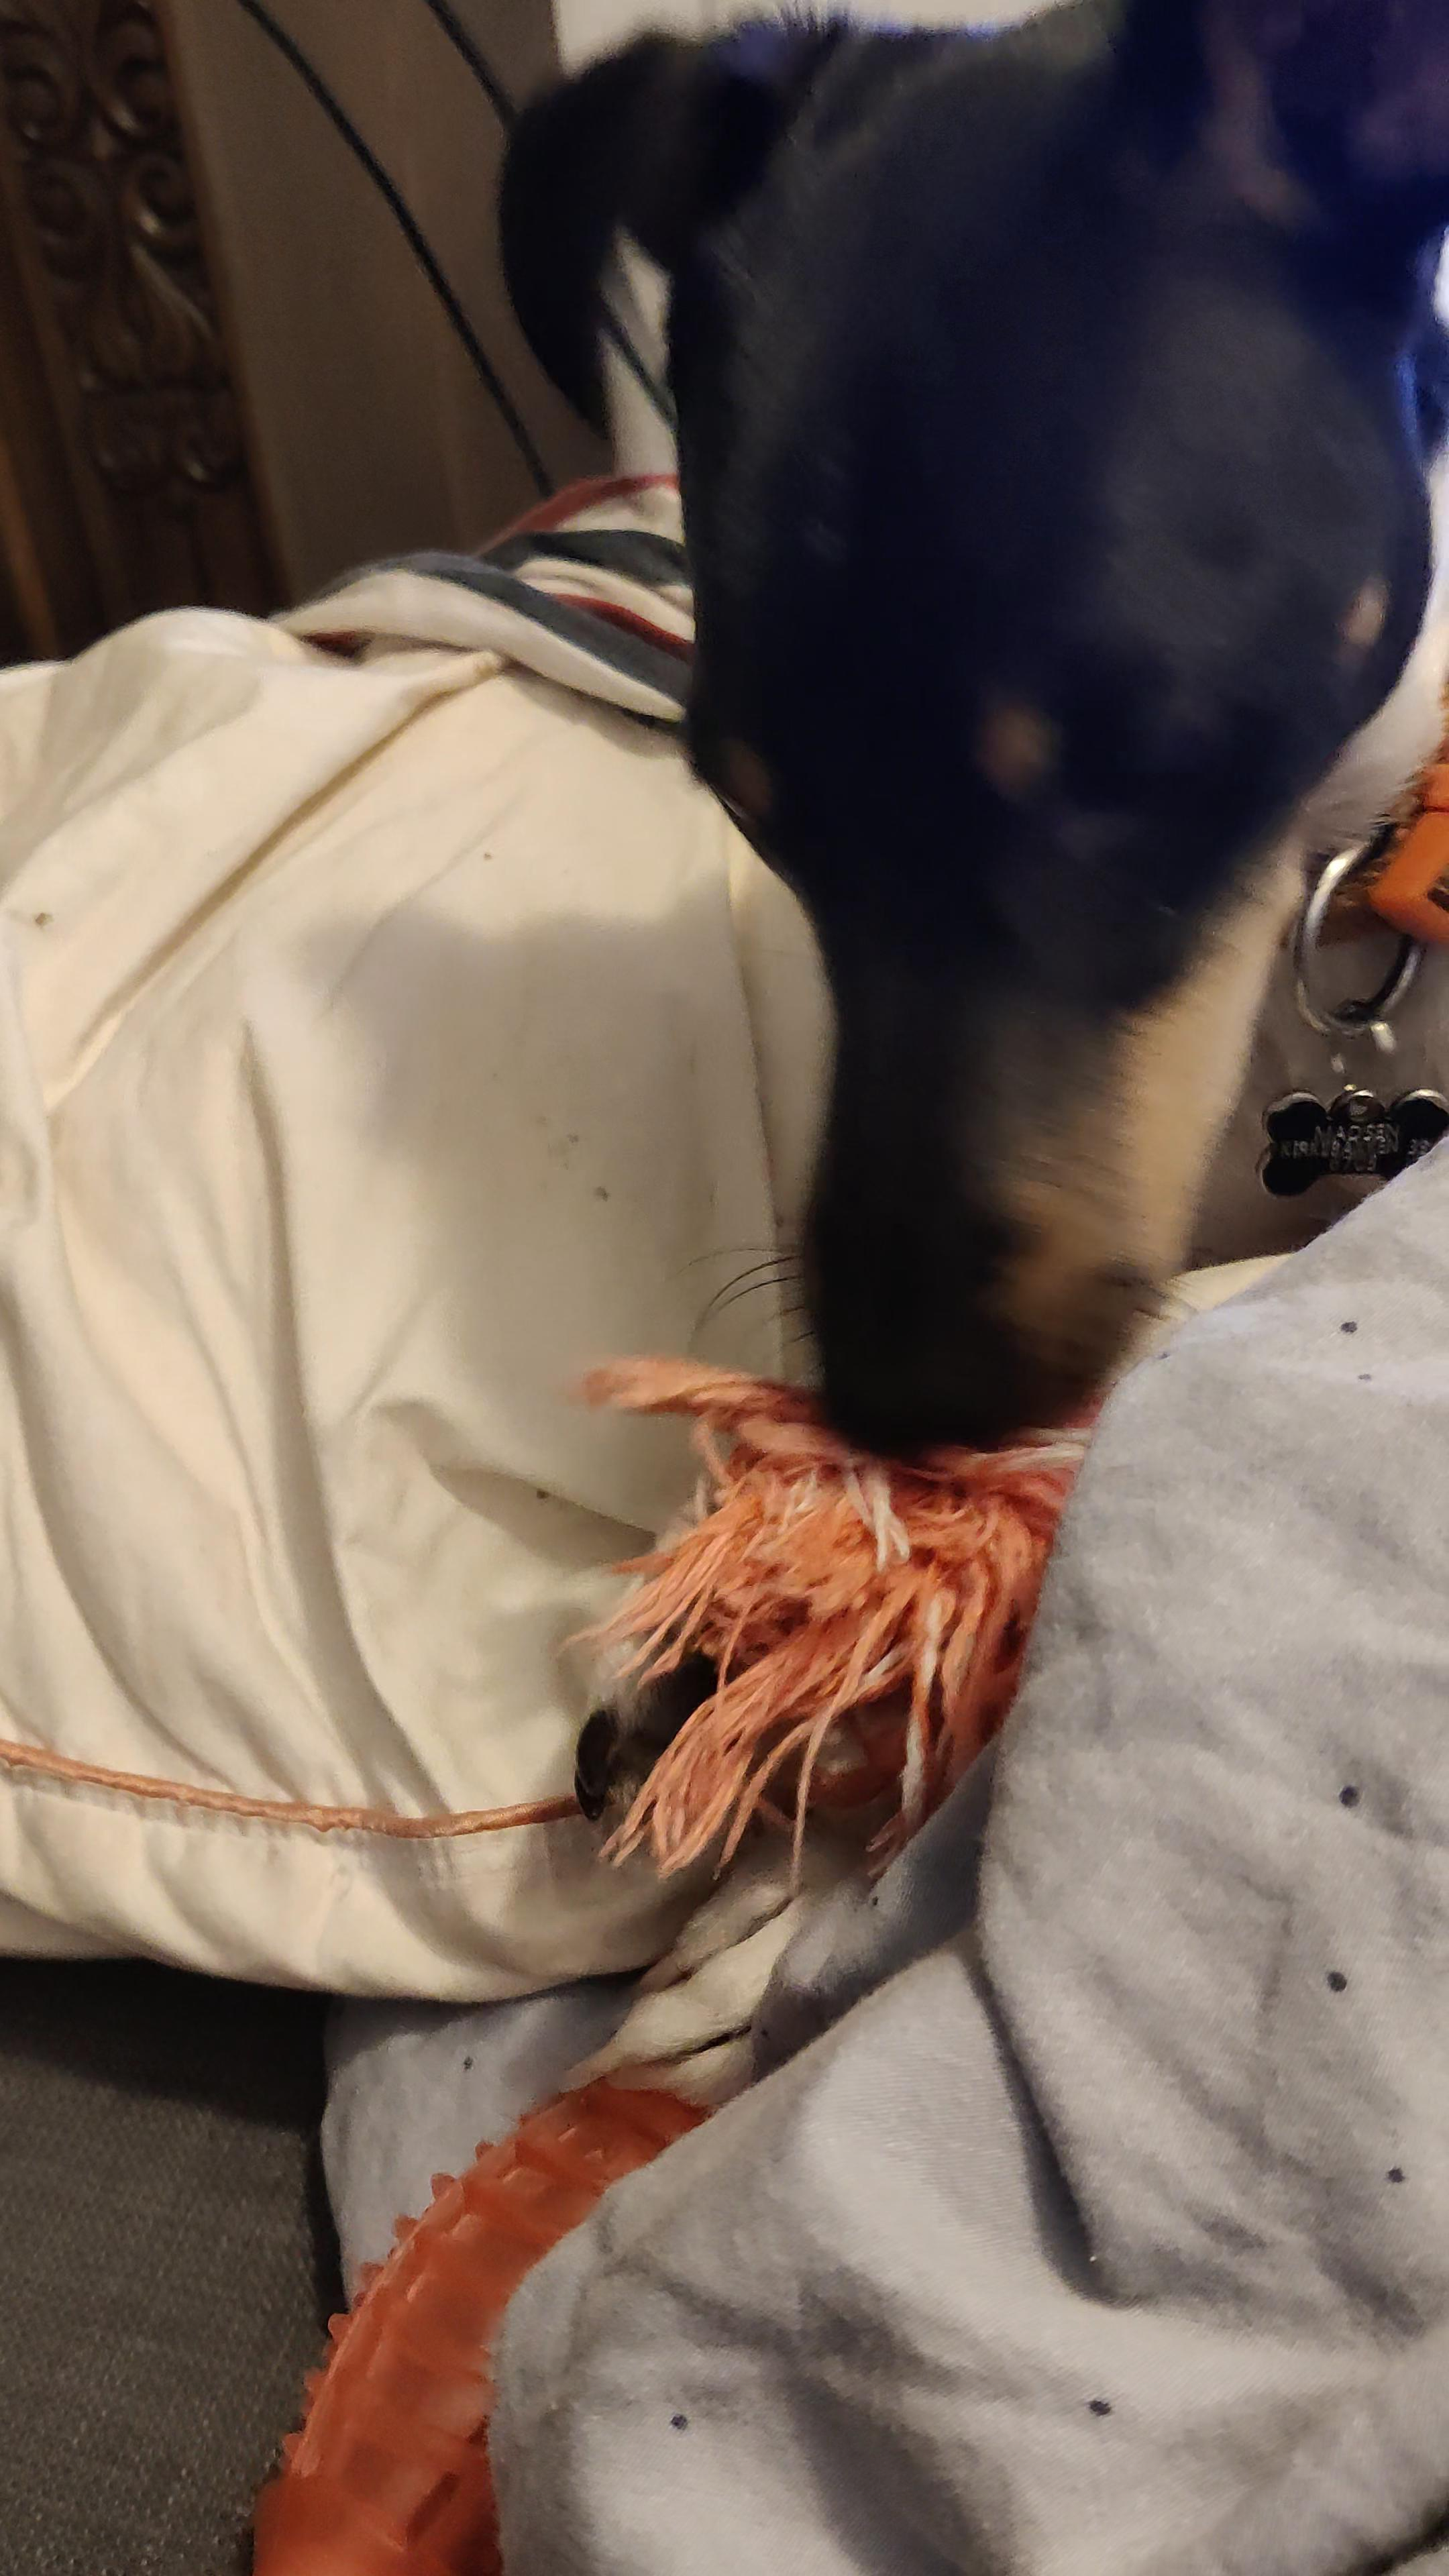Dog: (467, 0, 1449, 2139)
